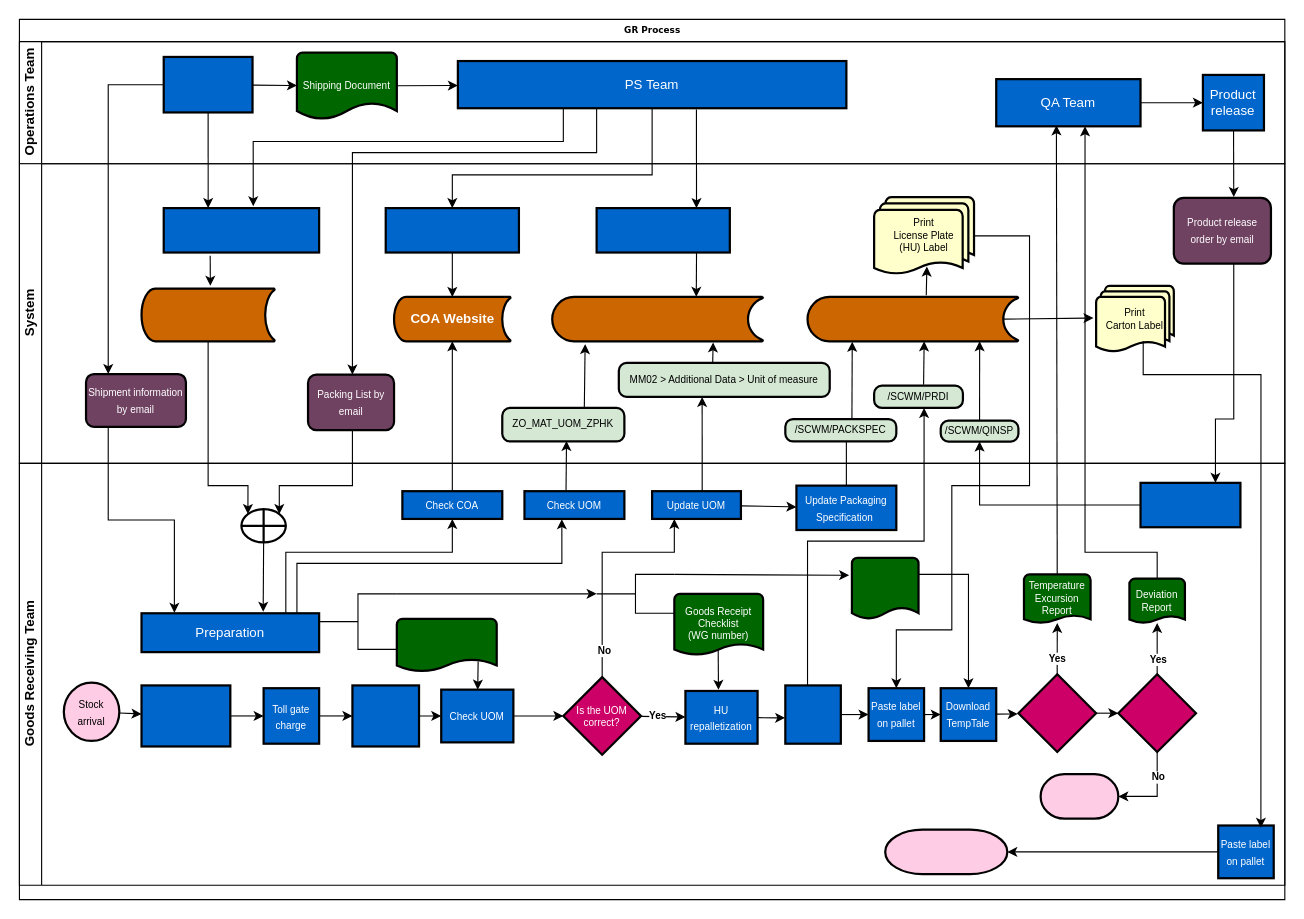
Image size: 1304x919. Some labels were removed from this diagram. The shapes that lost their labels are listed below. From the top down, each one's box as (x1, y1, x2, y2) in pixels, then its label:
(162, 55, 253, 113): Shipping Team
(162, 206, 320, 253): Create data to eZconntect
(384, 206, 519, 253): Upload COA
(595, 206, 730, 253): Create PO/IBD in SAP ECC
(140, 287, 275, 342): eZConnect
(551, 295, 764, 342): SAP ECC
(806, 295, 1019, 342): SAP EWM
(1139, 481, 1241, 528): Perform Second Putaway
(850, 556, 919, 619): Temperature Record Document
(395, 617, 497, 672): Packing with UOM information
(140, 684, 231, 747): Delivery Document check
(351, 684, 420, 747): Open up carton inspection
(784, 684, 841, 744): Create Batch & Expiration
(1017, 673, 1097, 753): Temperature abnormal
(1117, 673, 1197, 753): Damaged or Discrepancy
(1039, 773, 1119, 819): Putaway to R Storage Bin
(884, 828, 1008, 875): Putaway to Sellable Storage Bin
